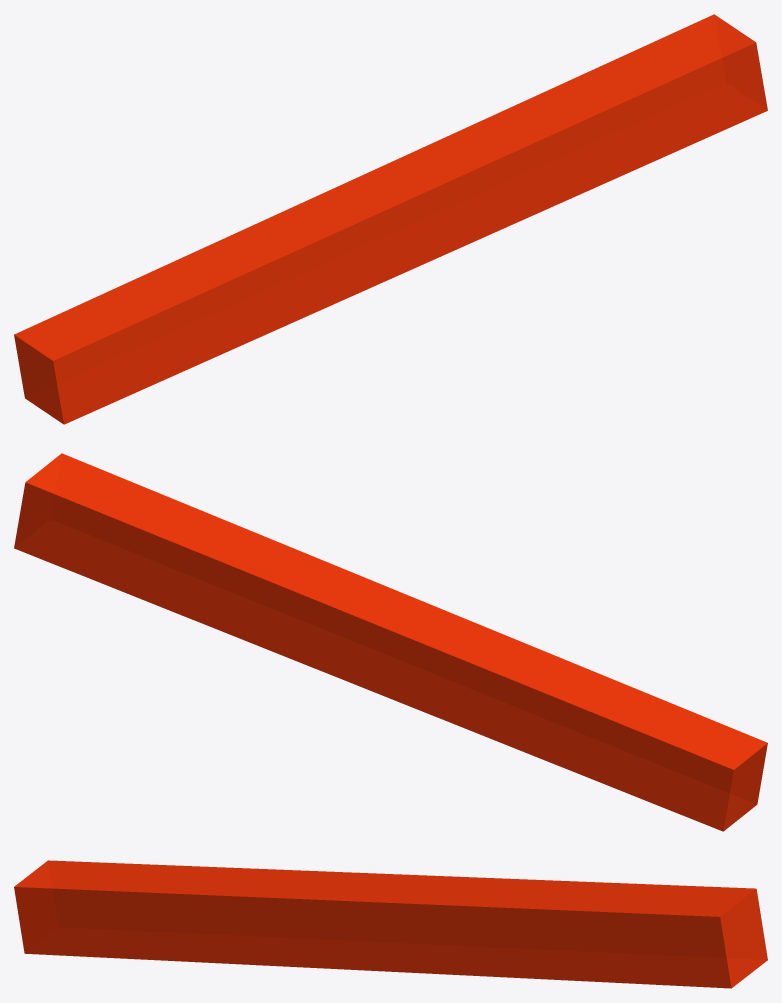
Rendered from Event_420107950_EErechit_36.fbx.
3 renders of one model, top to bottom at view 1: azimuth 30°, elevation 25°; view 2: azimuth 150°, elevation 25°; view 3: azimuth 330°, elevation 25°, orthographic. The views are drawn at different scales.
Parts seen in each view (by area): view 1: Model; view 2: Model; view 3: Model.
Part boxes in pixels (left/top/right/bottom): Model: left=14, top=14, right=767, bottom=424; Model: left=14, top=453, right=767, bottom=831; Model: left=14, top=860, right=767, bottom=988.
Size of the model in its own units: 0.8226 by 0.2163 by 0.1035.
